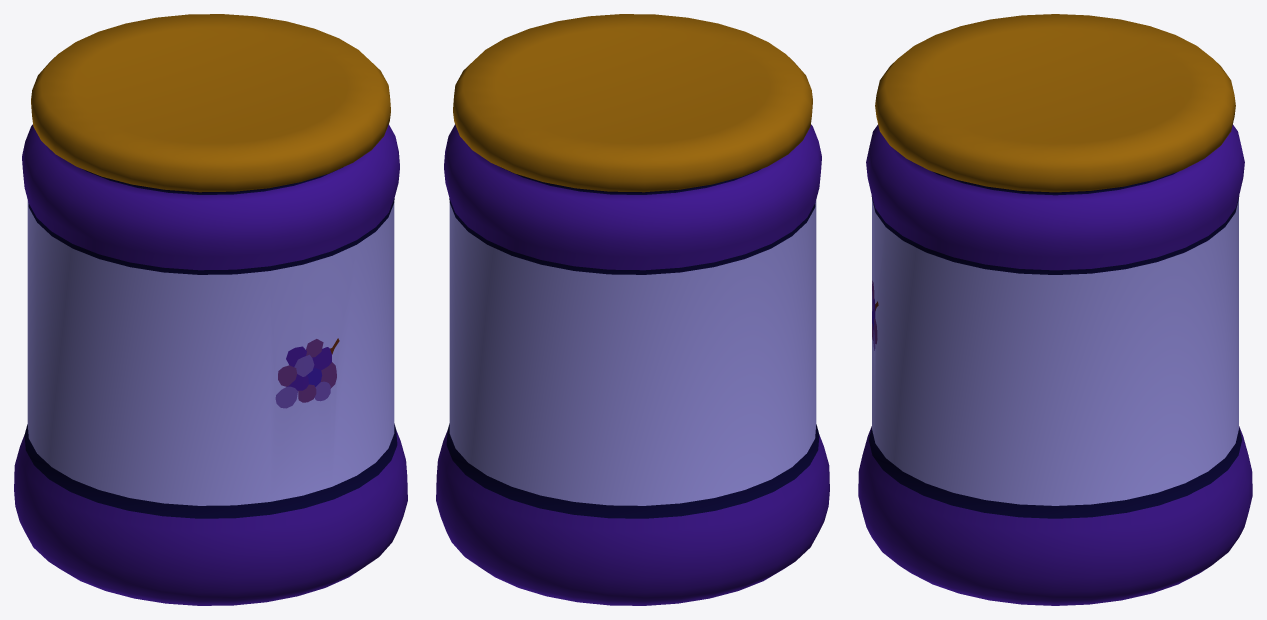
The model's file is Jam.fbx.
The picture shows the model from 3 angles, left to right: view 1: azimuth 30°, elevation 25°; view 2: azimuth 150°, elevation 25°; view 3: azimuth 270°, elevation 25°; orthographic projection.
Visible parts, largest first — view 1: Cylinder; view 2: Cylinder; view 3: Cylinder.
Part boxes in pixels (left/top/right/bottom): Cylinder: left=14, top=14, right=407, bottom=605; Cylinder: left=436, top=14, right=829, bottom=605; Cylinder: left=858, top=14, right=1252, bottom=605.
Size of the model in its own units: 358 by 448 by 358.
